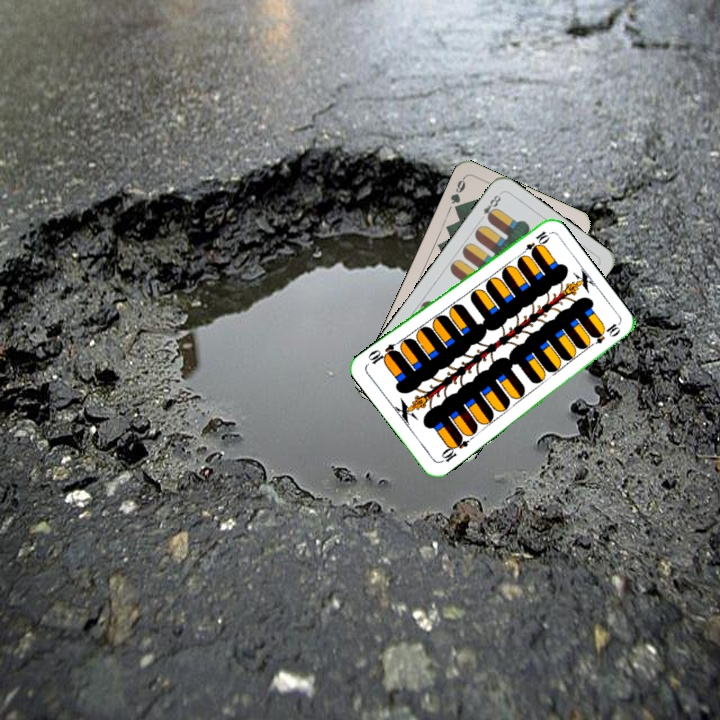E10: (436, 432, 471, 466), (516, 227, 551, 259)
E8: (475, 189, 504, 224)
G9: (446, 174, 468, 215)
